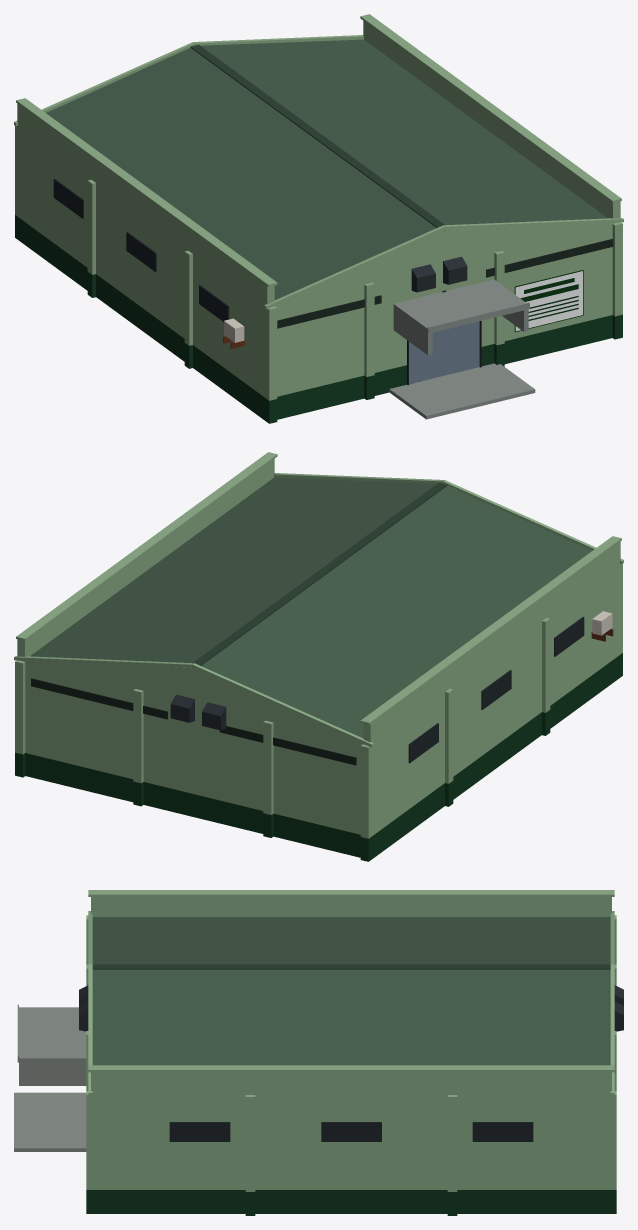
Rendered from rares_seed_storage.glb.
3 renders of one model, top to bottom at view 1: azimuth 30°, elevation 25°; view 2: azimuth 150°, elevation 25°; view 3: azimuth 270°, elevation 25°, orthographic. The views are drawn at different scales.
Visible parts, largest first — view 1: RSS_Joined_RSS_RoofGreen, RSS_Joined_RSS_WallMint, RSS_Joined_RSS_WallDarkGreen, RSS_Joined_RSS_Concrete, RSS_RollUp_Door, RSS_Roof_RidgeCap, RSS_Sign_Face, RSS_Joined_RSS_LouverDark, RSS_Joined_RSS_WindowFrame, RSS_Joined_RSS_SignBorder, RSS_Joined_RSS_HoodDark; view 2: RSS_Joined_RSS_WallMint, RSS_Joined_RSS_RoofGreen, RSS_Joined_RSS_WallDarkGreen, RSS_Roof_RidgeCap, RSS_Joined_RSS_LouverDark, RSS_Joined_RSS_WindowFrame, RSS_Joined_RSS_HoodDark; view 3: RSS_Joined_RSS_WallMint, RSS_Joined_RSS_RoofGreen, RSS_Joined_RSS_WallDarkGreen, RSS_Joined_RSS_Concrete, RSS_Joined_RSS_WindowFrame, RSS_Roof_RidgeCap, RSS_Joined_RSS_HoodDark.
Boxes of the visible parts, box(x1,y1,x2,y2) form: RSS_Joined_RSS_RoofGreen: box(46, 39, 607, 300); RSS_Joined_RSS_WallMint: box(14, 14, 623, 400); RSS_Joined_RSS_WallDarkGreen: box(15, 215, 622, 423); RSS_Joined_RSS_Concrete: box(389, 279, 535, 419); RSS_RollUp_Door: box(409, 321, 479, 384); RSS_Roof_RidgeCap: box(190, 44, 445, 229); RSS_Sign_Face: box(515, 271, 582, 331); RSS_Joined_RSS_LouverDark: box(277, 238, 613, 328); RSS_Joined_RSS_WindowFrame: box(53, 179, 229, 321); RSS_Joined_RSS_SignBorder: box(514, 270, 583, 332); RSS_Joined_RSS_HoodDark: box(411, 256, 467, 292); RSS_Joined_RSS_WallMint: box(14, 452, 623, 838); RSS_Joined_RSS_RoofGreen: box(30, 477, 591, 738); RSS_Joined_RSS_WallDarkGreen: box(15, 653, 622, 861); RSS_Roof_RidgeCap: box(192, 482, 447, 667); RSS_Joined_RSS_LouverDark: box(31, 678, 356, 765); RSS_Joined_RSS_WindowFrame: box(408, 617, 584, 763); RSS_Joined_RSS_HoodDark: box(170, 694, 226, 730); RSS_Joined_RSS_WallMint: box(86, 890, 616, 1191); RSS_Joined_RSS_RoofGreen: box(92, 917, 610, 1065); RSS_Joined_RSS_WallDarkGreen: box(86, 1190, 616, 1215); RSS_Joined_RSS_Concrete: box(14, 1004, 86, 1151); RSS_Joined_RSS_WindowFrame: box(169, 1122, 533, 1141); RSS_Roof_RidgeCap: box(92, 964, 610, 969); RSS_Joined_RSS_HoodDark: box(79, 985, 623, 1031).
Bounding box in the file's own units: 17.72 × 6.99 × 24.16.
